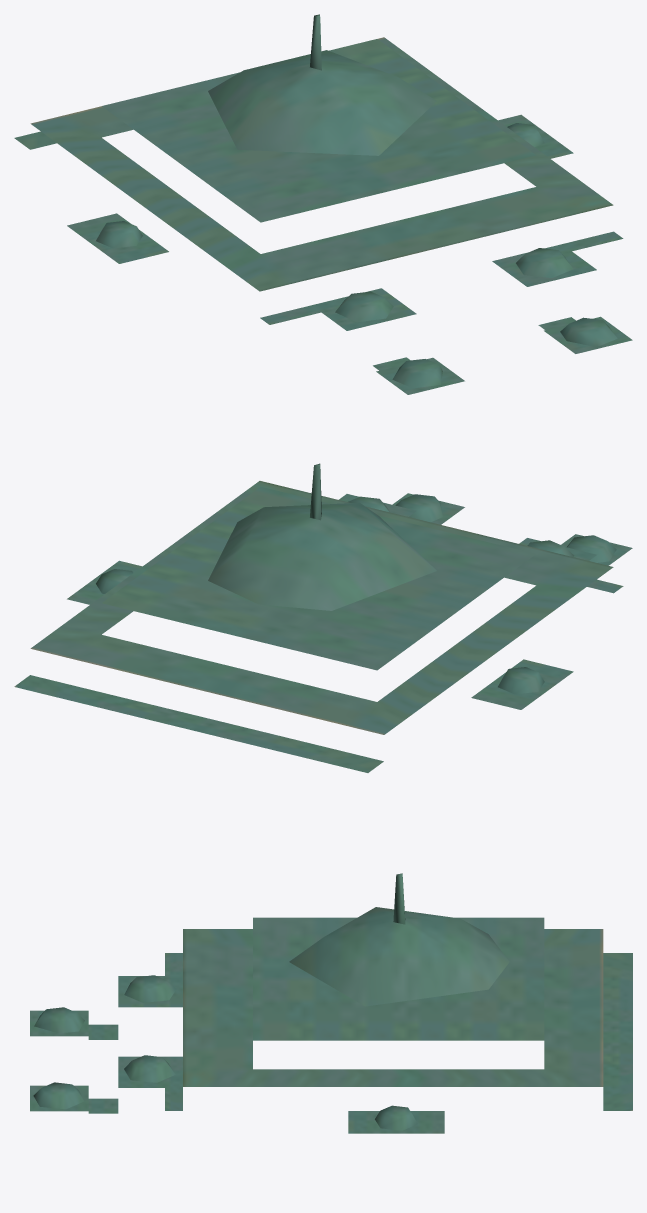
Rendered from mun_nboo_capitol_s01_r0_mesh_l4.fbx.
3 renders of one model, top to bottom at view 1: azimuth 30°, elevation 25°; view 2: azimuth 150°, elevation 25°; view 3: azimuth 270°, elevation 25°, orthographic. The views are drawn at different scales.
Visible parts, largest first — view 1: mesh_node; view 2: mesh_node; view 3: mesh_node.
Part boxes in pixels (x1,y1,x2,y2): mesh_node: [14, 14, 632, 394]; mesh_node: [14, 463, 632, 772]; mesh_node: [30, 873, 632, 1133].
Bounding box in the file's own units: 82.46 × 42.14 × 106.
